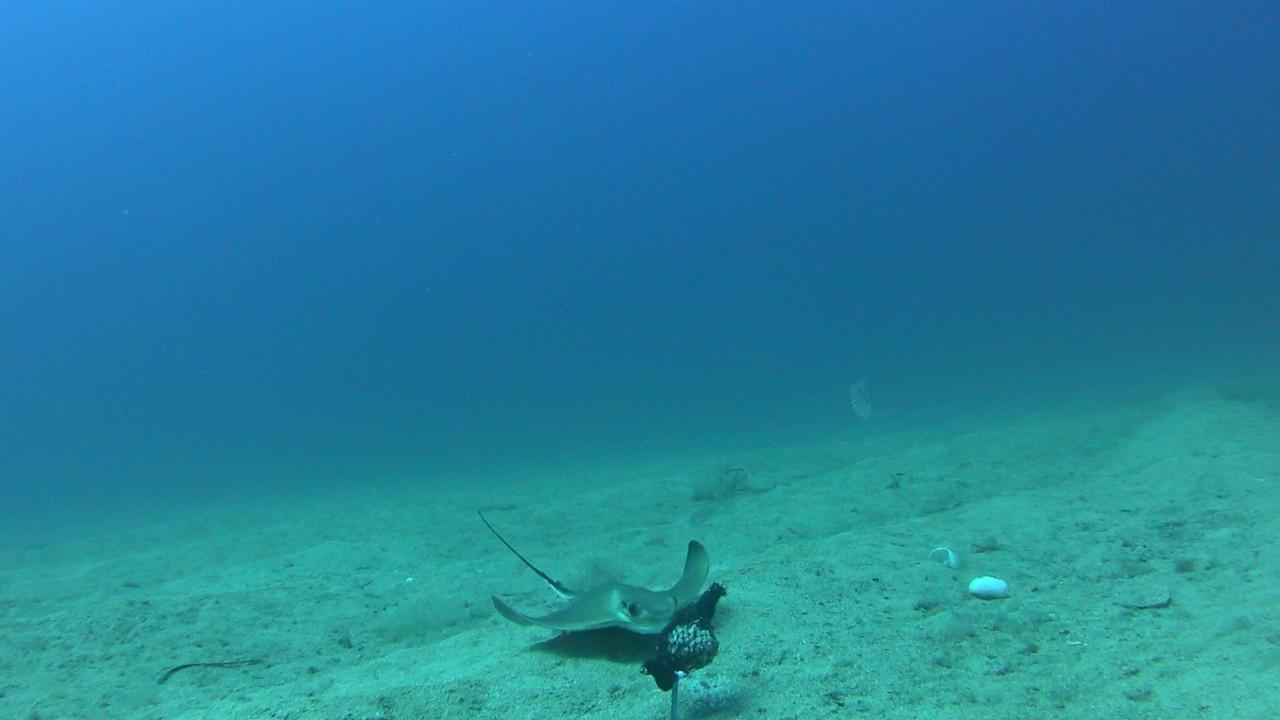myliobatis: (454, 485, 709, 632)
